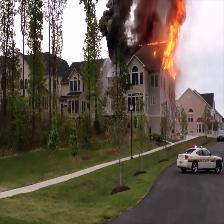fire: (166, 1, 180, 71)
smoke: (107, 1, 127, 55), (137, 1, 157, 38)
